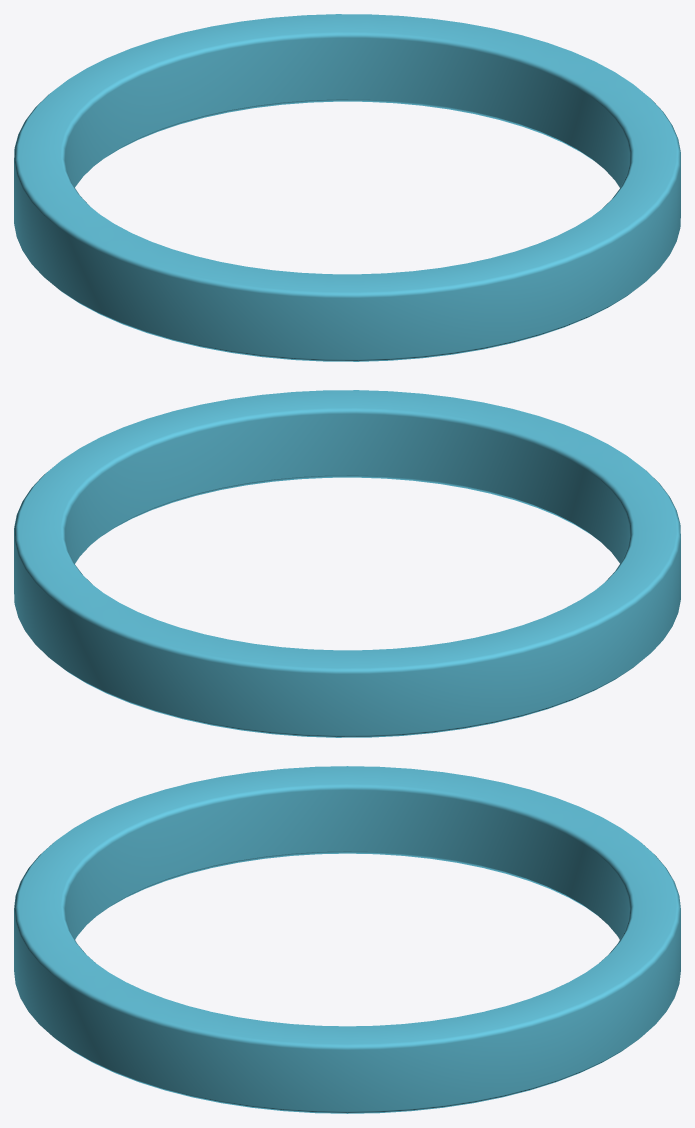
3 renders of one model, top to bottom at view 1: azimuth 30°, elevation 25°; view 2: azimuth 150°, elevation 25°; view 3: azimuth 270°, elevation 25°, orthographic.
Parts seen in each view (by area): view 1: seal_body; view 2: seal_body; view 3: seal_body.
Boxes of the visible parts, x1,y1,x2,y2 form: seal_body: (14,14,680,361); seal_body: (14,390,680,737); seal_body: (14,766,680,1113).
Size of the model in its own units: 0.0825 by 0.00952 by 0.0825.
